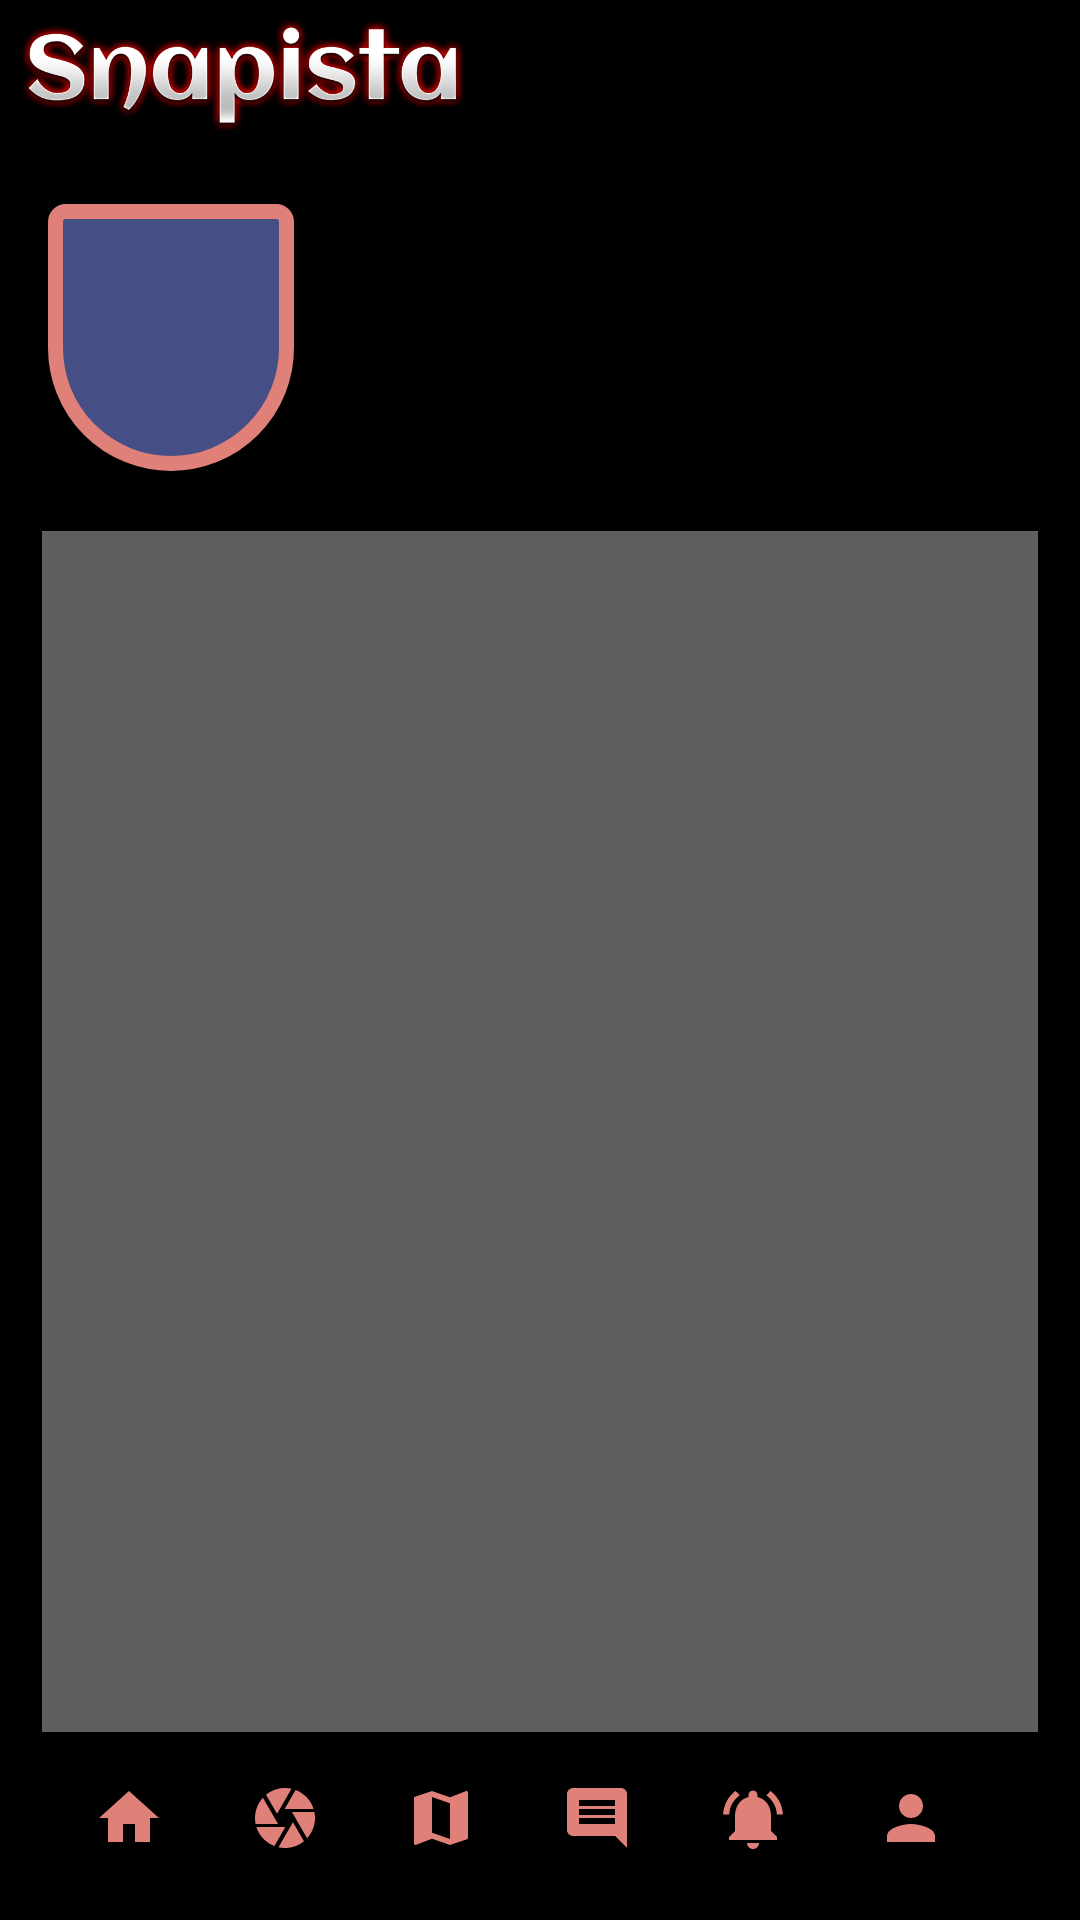

Where icons sit on this 1080x1920 app screen, as {"x1": x1, "y1": y1, "x2": x2, "y2": y2}:
camera: {"x1": 255, "y1": 1788, "x2": 315, "y2": 1848}
chat: {"x1": 567, "y1": 1788, "x2": 627, "y2": 1848}
explore: {"x1": 414, "y1": 1791, "x2": 468, "y2": 1845}
home: {"x1": 99, "y1": 1791, "x2": 159, "y2": 1842}
notify: {"x1": 723, "y1": 1790, "x2": 783, "y2": 1849}
profile: {"x1": 887, "y1": 1794, "x2": 935, "y2": 1842}
